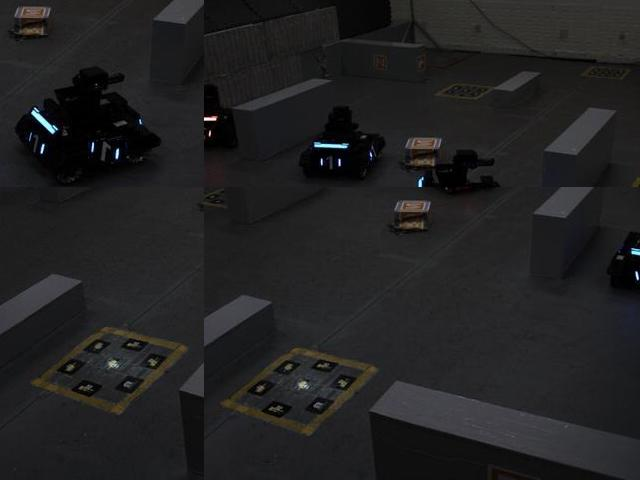armor: (23, 125, 50, 162), (89, 140, 127, 165), (316, 152, 343, 175), (204, 123, 216, 144)
